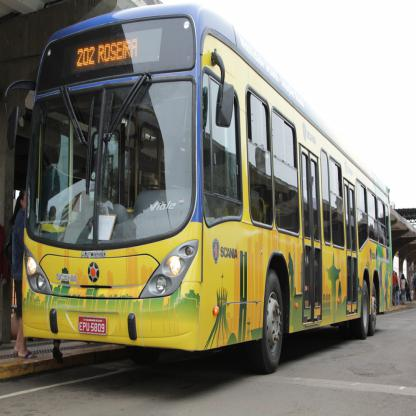Bus: (4, 3, 393, 374)
